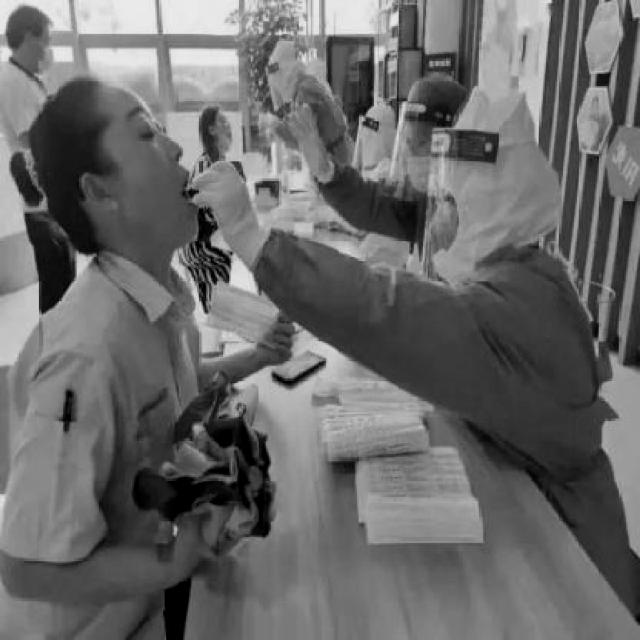face_mask: (26, 31, 66, 72)
face_nomask: (106, 94, 200, 260)
hand_glove: (192, 157, 260, 248), (291, 103, 332, 177)
hand_noglove: (258, 311, 294, 371)
head_nohelmet: (28, 55, 123, 171), (8, 9, 54, 29)
